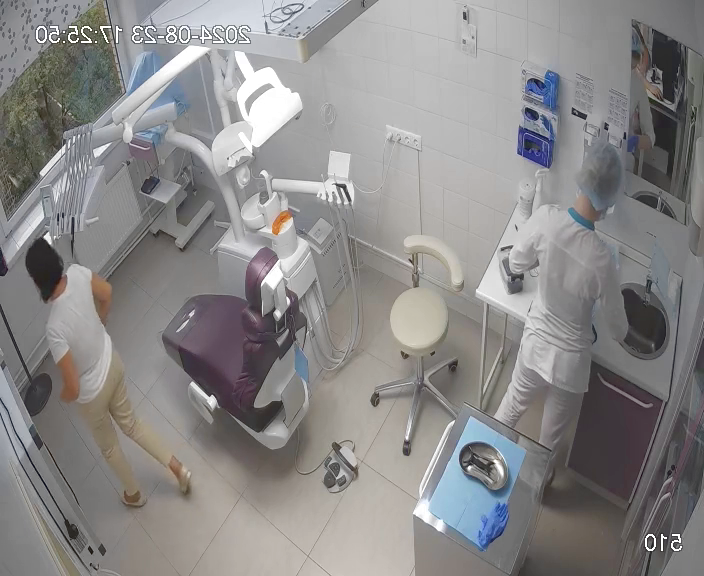Empty: (158, 243, 325, 456)
